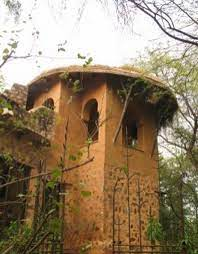Mud House: (18, 53, 172, 248)
